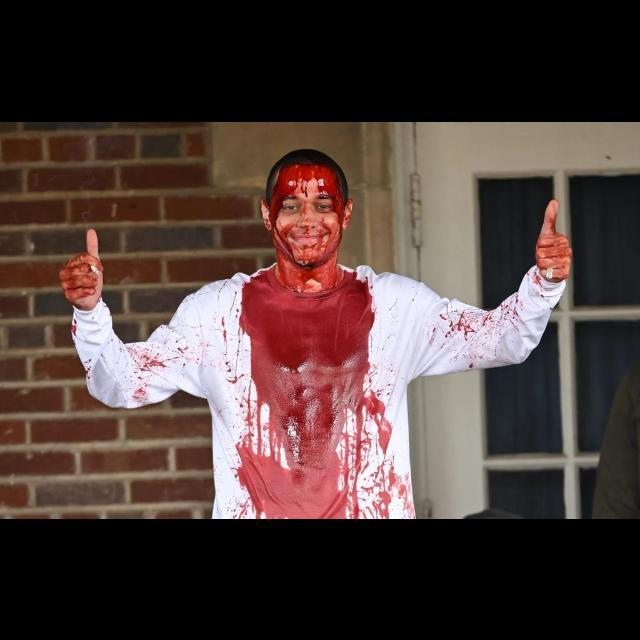blood: (236, 268, 414, 518), (262, 163, 353, 292), (440, 292, 521, 339), (128, 341, 184, 405), (536, 198, 573, 281), (541, 201, 571, 280), (59, 252, 103, 303), (223, 317, 241, 351), (226, 359, 238, 383)
